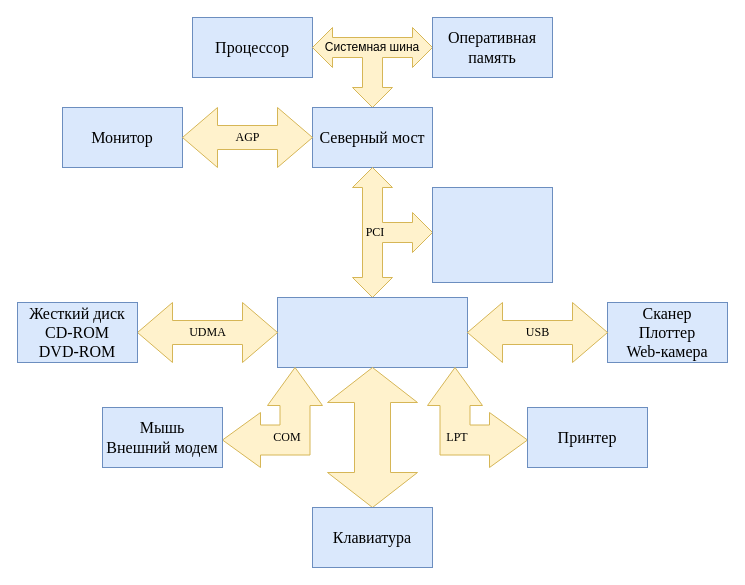
The diagram is 745 pixels wide and 585 high, and some of its shapes have lost their labels. The shapes that lost their labels are listed below. From the top down, each one's centre as x and y in pixels, then its label:
At point 492,234: "Звуковая плата Сетевая плата Внутренний модем SCSI-контроллер".
At point 372,332: "Южный мост".
At point 372,437: "PS/2".
